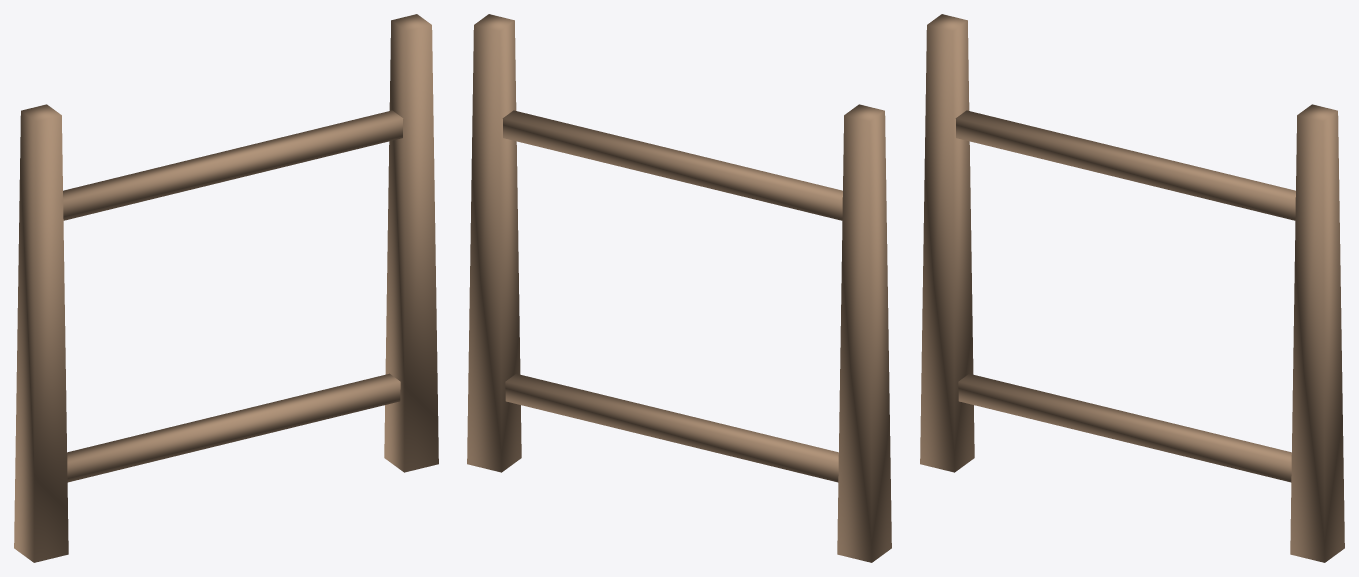
File: kenney_survival-kit__fence.fbx
The picture shows the model from 3 angles, left to right: view 1: azimuth 30°, elevation 25°; view 2: azimuth 150°, elevation 25°; view 3: azimuth 330°, elevation 25°; orthographic projection.
Parts seen in each view (by area): view 1: kenney_survival-kit__fence__cave_wood; view 2: kenney_survival-kit__fence__cave_wood; view 3: kenney_survival-kit__fence__cave_wood.
Boxes of the visible parts, box(x1,y1,x2,y2) form: kenney_survival-kit__fence__cave_wood: box(14, 14, 438, 562); kenney_survival-kit__fence__cave_wood: box(467, 14, 891, 562); kenney_survival-kit__fence__cave_wood: box(920, 14, 1344, 562).
Size of the model in its own units: 1.79 by 1.85 by 0.1528.
